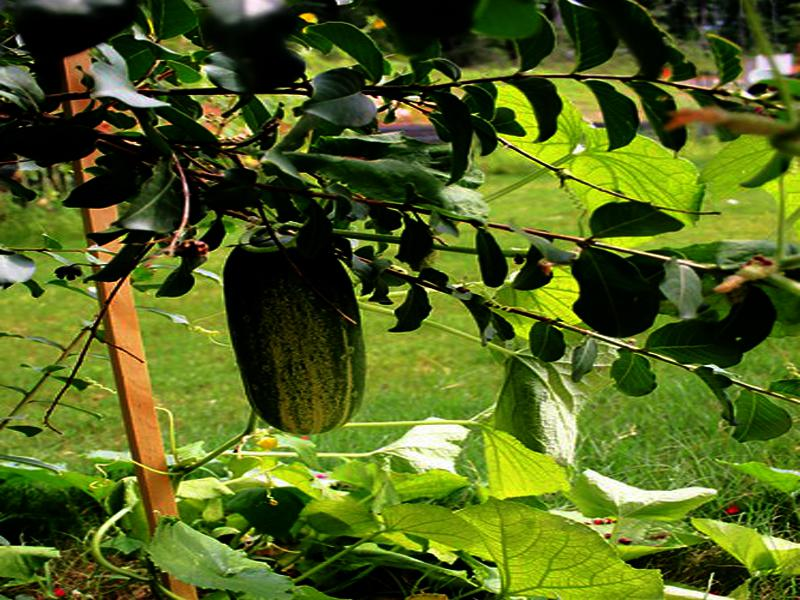Cucumber: (221, 223, 362, 436)
